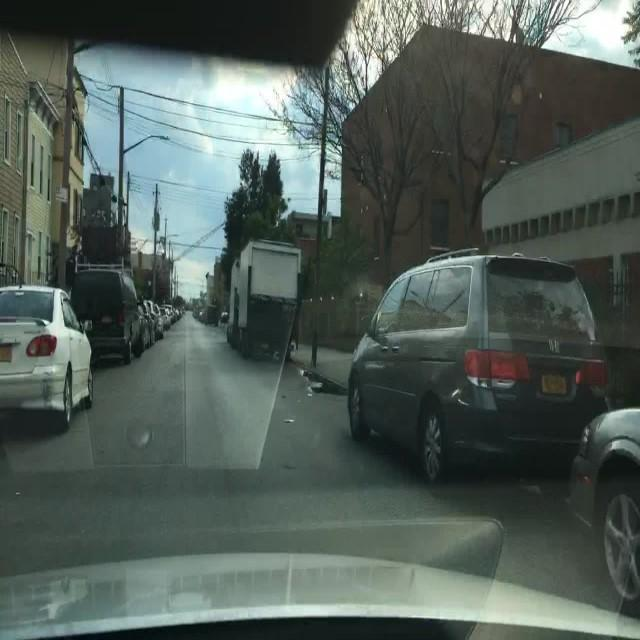normal: (344, 252, 607, 489), (0, 283, 93, 431), (68, 269, 148, 367), (141, 299, 163, 339)
